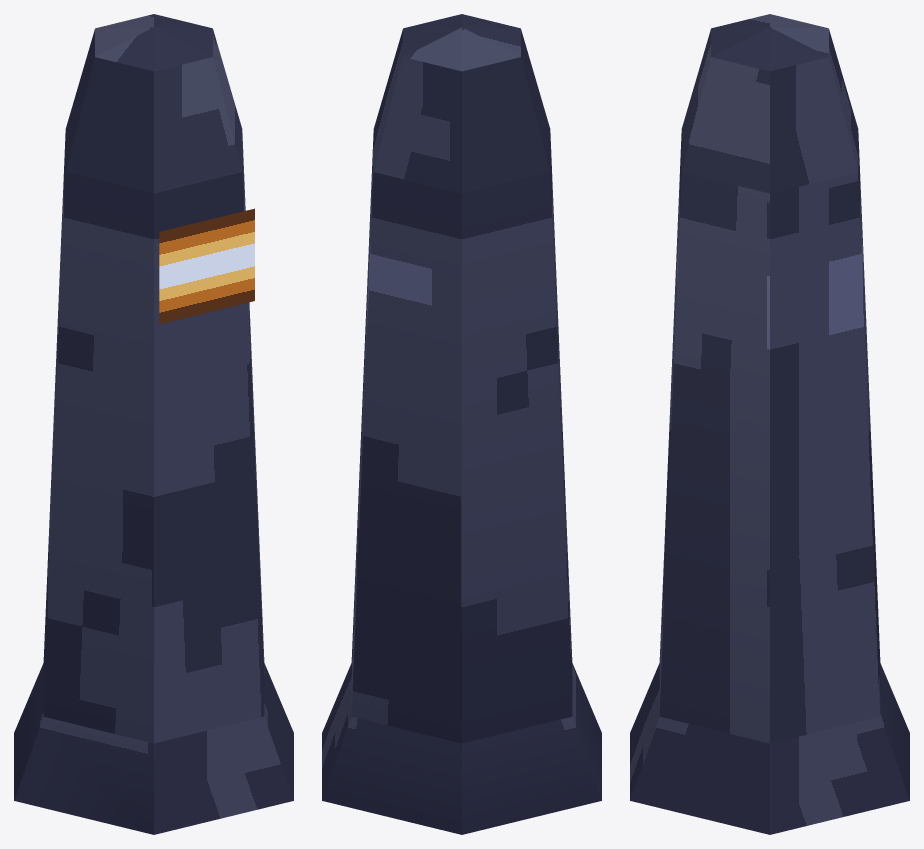
Rendered from cydress.bollard.glb.
3 views of the same model, side by side, from view 1: azimuth 30°, elevation 25°; view 2: azimuth 150°, elevation 25°; view 3: azimuth 270°, elevation 25° (orthographic).
Visible parts, largest first — view 1: kit_body, kit_card_details; view 2: kit_body; view 3: kit_body.
Boxes of the visible parts, x1,y1,x2,y2 form: kit_body: (14, 14, 293, 834); kit_card_details: (159, 208, 254, 324); kit_body: (322, 14, 601, 834); kit_body: (630, 14, 909, 834).
Bounding box in the file's own units: 0.38 × 0.96 × 0.3291.
Materials: 2 (2 with a texture image).
